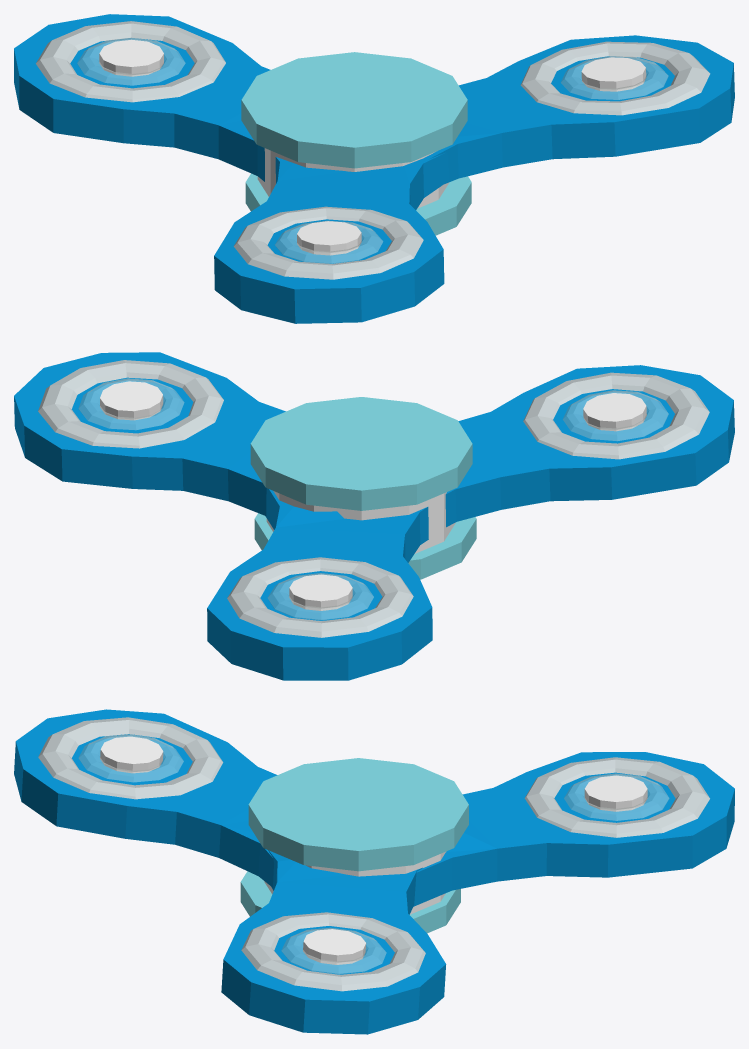
Rendered from fidget_spinner.glb.
3 views of the same model, one above another, from view 1: azimuth 30°, elevation 25°; view 2: azimuth 150°, elevation 25°; view 3: azimuth 270°, elevation 25° (orthographic). The views are drawn at different scales.
Visible parts, largest first — view 1: group1876505053, group1223015023, group1530764111, group1533782707, group473739499, group587982059; view 2: group1876505053, group1530764111, group1223015023, group1533782707, group473739499, group587982059; view 3: group1530764111, group1223015023, group1876505053, group1533782707, group473739499, group587982059.
Part boxes in pixels (bbox=[...]): group1876505053: bbox=[214, 152, 449, 323]; group1223015023: bbox=[424, 35, 734, 183]; group1530764111: bbox=[14, 14, 270, 181]; group1533782707: bbox=[241, 52, 467, 168]; group473739499: bbox=[245, 173, 471, 235]; group587982059: bbox=[257, 148, 449, 208]; group1876505053: bbox=[445, 365, 734, 527]; group1530764111: bbox=[207, 488, 432, 680]; group1223015023: bbox=[14, 352, 285, 515]; group1533782707: bbox=[250, 397, 472, 510]; group473739499: bbox=[254, 513, 476, 579]; group587982059: bbox=[266, 491, 455, 553]; group1530764111: bbox=[413, 752, 734, 906]; group1223015023: bbox=[221, 850, 446, 1034]; group1876505053: bbox=[14, 709, 277, 887]; group1533782707: bbox=[248, 758, 468, 871]; group473739499: bbox=[240, 871, 460, 933]; group587982059: bbox=[264, 851, 446, 914].
Size of the model in its own units: 0.8516 by 0.1368 by 0.9161.
